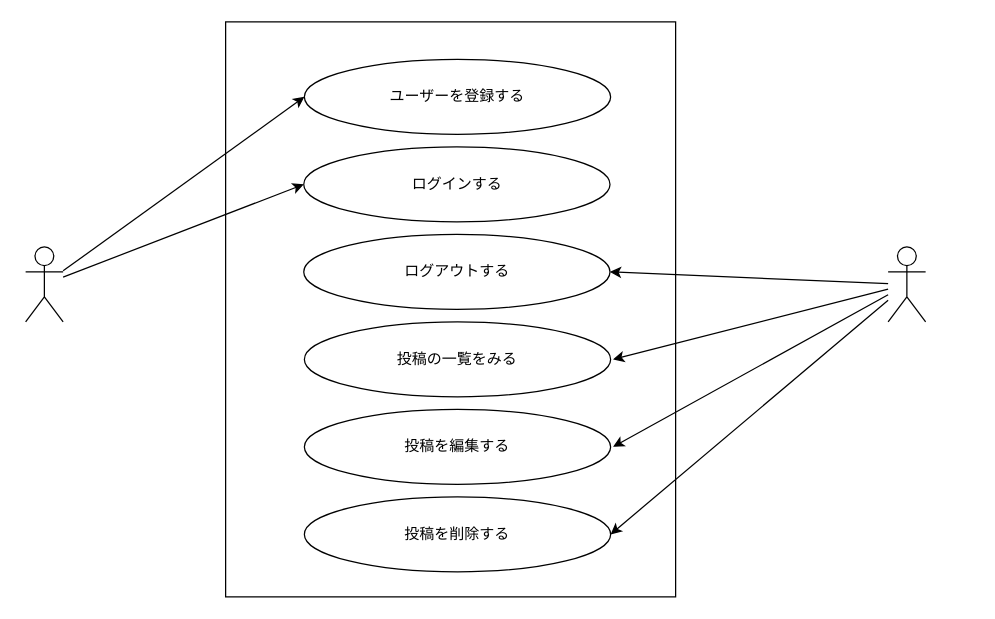
The diagram is 995 pixels wide and 619 high, and some of its shapes have lost their labels. Here are the shapes that lost their labels. From the top down, the box of each, then its label:
(24, 246, 63, 322): 訪問者
(887, 246, 926, 322): ログイン済み利用者
(224, 21, 676, 597): 投稿アプリ
